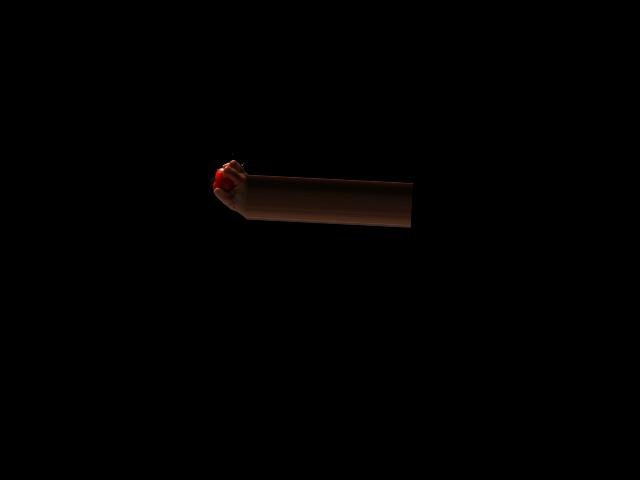tomato: (212, 167, 234, 192)
